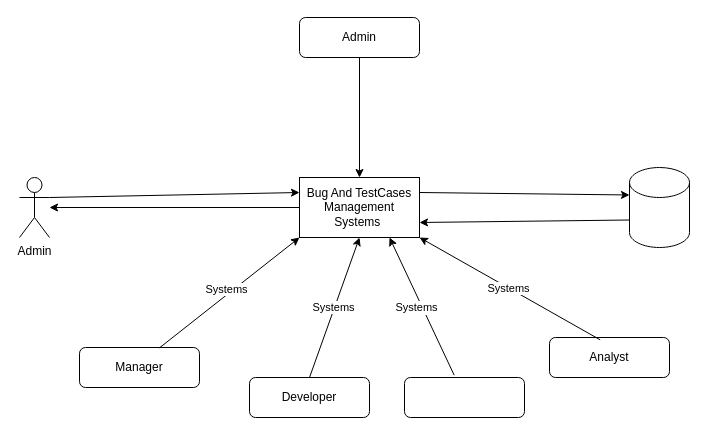
This 707x435 diagram has some shape labels left out. The box of each missing label's shape, as (x1, y1, x2, y2) in pixels:
DataBases: (628, 166, 690, 248)
Tester: (404, 376, 524, 418)
